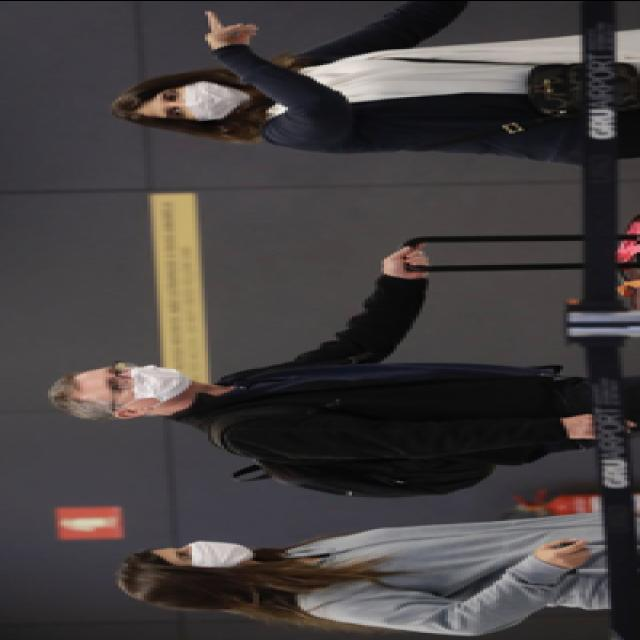with_mask: (93, 360, 189, 408), (148, 80, 246, 125), (163, 539, 256, 568)
